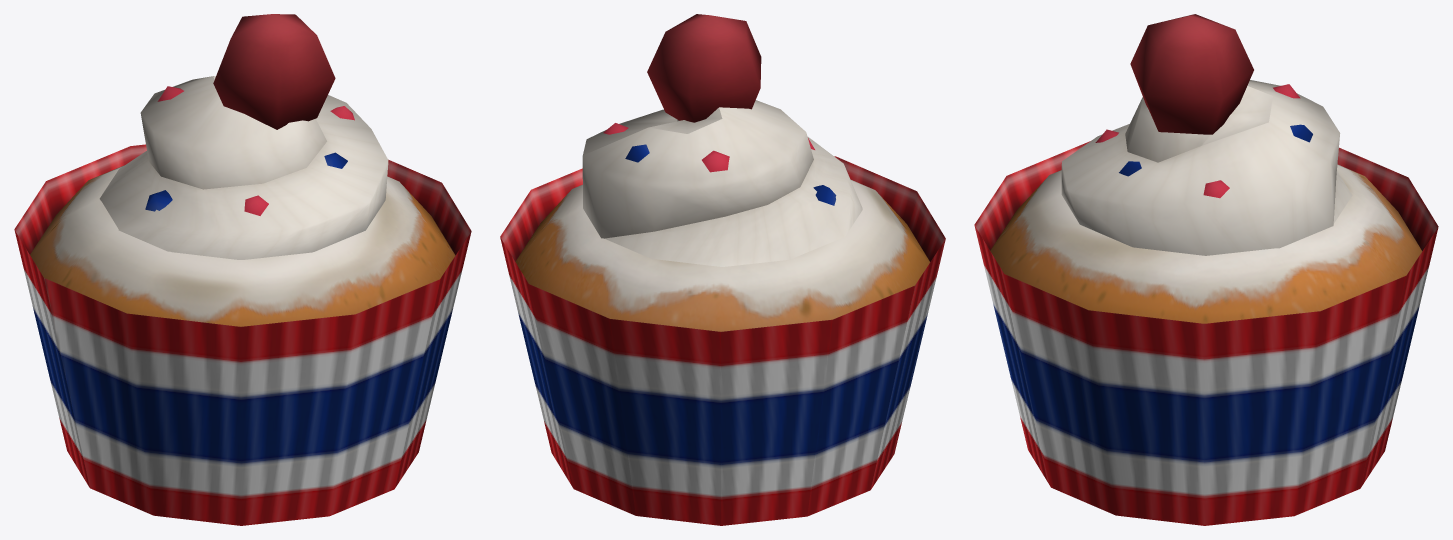
The model's file is A2_S1M1_0001_FlagCupcakes_Thailand.fbx.
The picture shows the model from 3 angles, left to right: view 1: azimuth 30°, elevation 25°; view 2: azimuth 150°, elevation 25°; view 3: azimuth 270°, elevation 25°; orthographic projection. The views are drawn at different scales.
Visible parts, largest first — view 1: A2_S1M1_0001_FlagCupcakes_Thailand; view 2: A2_S1M1_0001_FlagCupcakes_Thailand; view 3: A2_S1M1_0001_FlagCupcakes_Thailand.
Part boxes in pixels (x1,y1,x2,y2): A2_S1M1_0001_FlagCupcakes_Thailand: [14, 14, 471, 525]; A2_S1M1_0001_FlagCupcakes_Thailand: [500, 14, 945, 525]; A2_S1M1_0001_FlagCupcakes_Thailand: [974, 14, 1438, 525].
Size of the model in its own units: 10 by 10.58 by 10.
Materials: 2 (2 with a texture image).
